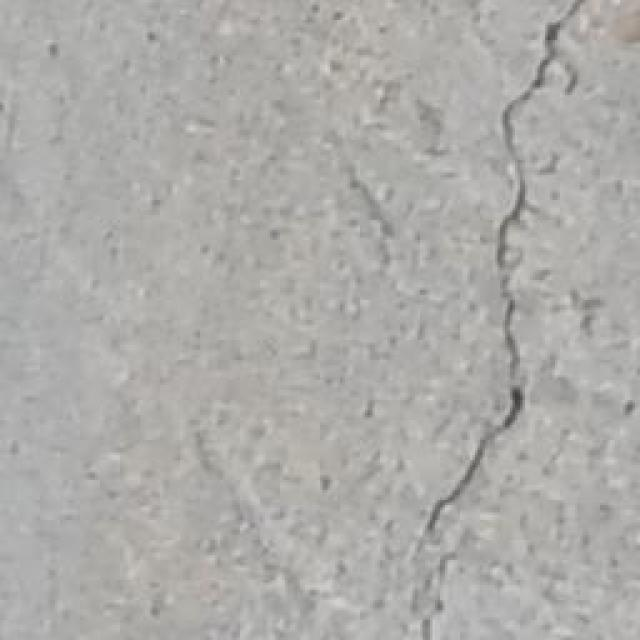concrete-crack: (412, 0, 590, 549)
